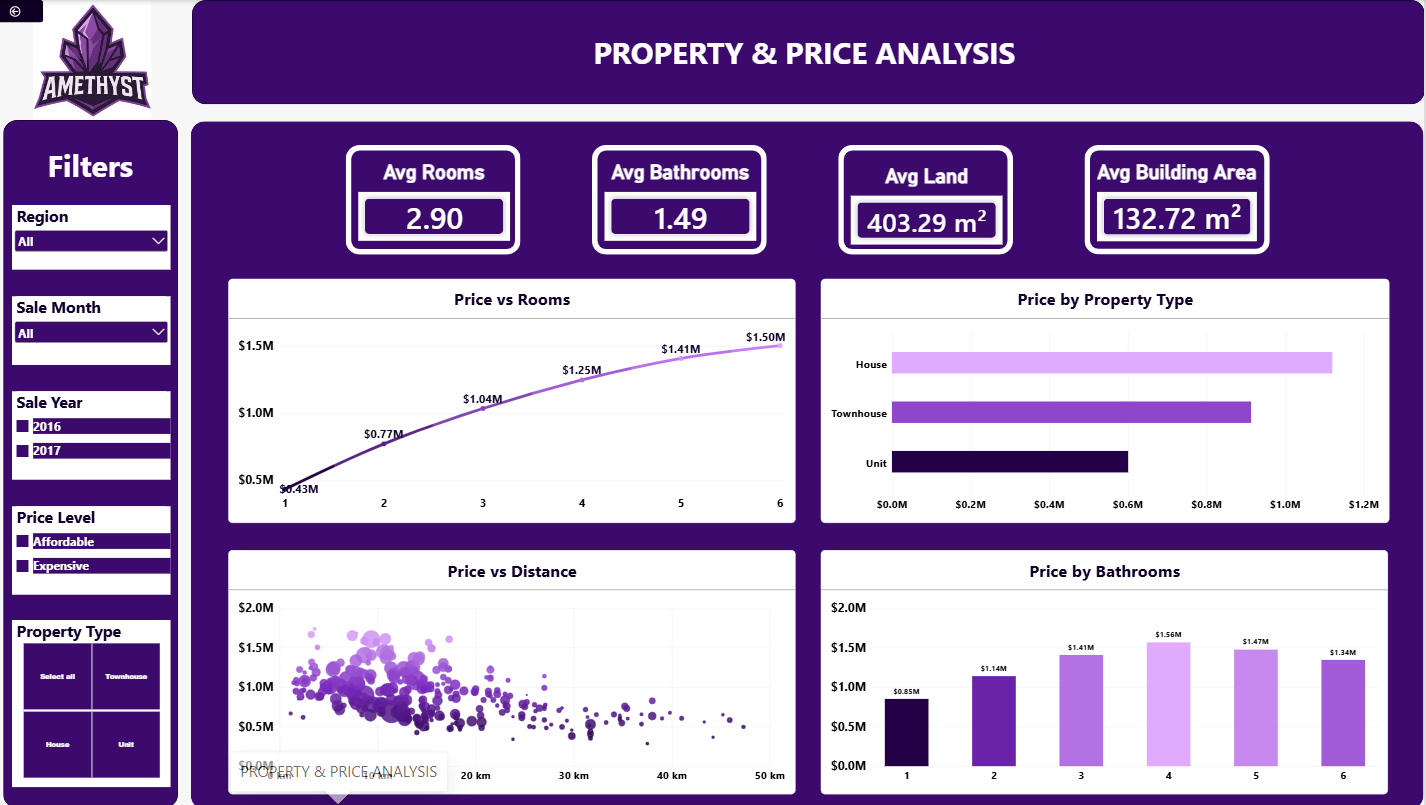

Layout of this report page (visuals, bound fields, positions):
{"tool":"powerbi","page":{"name":"PROPERTY & PRICE ANALYSIS ","canvas":[2560,1440],"ordinal":1},"visuals":[{"type":"shape","box":[364.3,0,2195.7,185.8],"z":0},{"type":"shape","box":[640,257.8,311.3,195.4],"z":0,"group":"g1"},{"type":"textbox","box":[912.1,55.5,1100.3,74.8],"z":1000},{"type":"shape","box":[1078.5,257.8,311.3,195.4],"z":1000,"group":"g1"},{"type":"shape","box":[363.8,215,2195.7,1225.7],"z":2000},{"type":"cardVisual","title":"Avg Rooms","fields":{"Data":["melb_data_cleaned.Average Rooms"]},"box":[661.7,284.4,270.2,144.8],"z":2000,"group":"g1"},{"type":"shape","box":[29,214.7,311.3,1225.7],"z":3000},{"type":"shape","box":[1517.1,257.8,311.3,195.4],"z":3000,"group":"g1"},{"type":"image","box":[82.5,0,210,215],"z":4000},{"type":"shape","box":[1955.5,257.5,330,195],"z":4000,"group":"g1"},{"type":"cardVisual","title":"Avg Bathrooms","fields":{"Data":["melb_data_cleaned.Average Bathrooms"]},"box":[1100.3,284.4,270.2,144.8],"z":5000,"group":"g1"},{"type":"lineChart","title":"Price vs Rooms ","fields":{"Y":["melb_data_cleaned.Average Price"],"Category":["melb_data_cleaned.Rooms"]},"box":[430,497.5,1010,435],"z":5000},{"type":"cardVisual","title":"Avg Land","fields":{"Data":["melb_data_cleaned.Average Land Size"]},"box":[1538.6,290.6,270.7,144],"z":6000,"group":"g1"},{"type":"barChart","title":"Price by Property Type","fields":{"Category":["melb_data_cleaned.Type"],"Y":["melb_data_cleaned.Average Price"]},"box":[1485,497.5,1012.5,435],"z":6000},{"type":"cardVisual","title":"Avg Building Area","fields":{"Data":["melb_data_cleaned.Average Building Area"]},"box":[1978,285,285,145],"z":7000,"group":"g1"},{"type":"slicer","fields":{"Values":["melb_data_cleaned.Regionname"]},"box":[45,365,282.5,115],"z":7000},{"type":"textbox","box":[80,257.5,207.5,75],"z":8000},{"type":"slicer","fields":{"Values":["melb_data_cleaned.Type"]},"box":[45,1105,282.5,297.5],"z":9000},{"type":"slicer","fields":{"Values":["melb_data_cleaned.Sale_Year"]},"box":[45,696.2,282.5,157.5],"z":10000},{"type":"slicer","fields":{"Values":["melb_data_cleaned.Price_Level"]},"box":[45,900.6,282.5,157.5],"z":11000},{"type":"slicer","fields":{"Values":["melb_data_cleaned.Sale_Month"]},"box":[45,526.9,282.5,122.5],"z":12000},{"type":"scatterChart","title":"Price vs Distance","fields":{"Size":["Sum(melb_data_cleaned.Landsize)"],"X":["melb_data_cleaned.Average Distance"],"Y":["melb_data_cleaned.Average Price"],"Series":["melb_data_cleaned.Suburb"]},"box":[430,980,1010,435],"z":13000},{"type":"columnChart","title":"Price by Bathrooms","fields":{"Category":["melb_data_cleaned.Bathroom"],"Y":["melb_data_cleaned.Average Price"]},"box":[1485,980,1010,435],"z":14000},{"type":"group","id":"g1","title":"Group 1","box":[640,257.5,1645.5,195.8],"z":15000},{"type":"actionButton","box":[0,0,100,40],"z":16000}]}

Visuals, with their boxes in screenshot pixels (x1, y1, x2, y2), scaled from the page's 2560x1440 canvas onto the 1426x805 screenshot:
shape: locate(203, 0, 1425, 104)
shape: locate(356, 144, 530, 253)
textbox: locate(508, 31, 1121, 73)
shape: locate(601, 144, 774, 253)
shape: locate(203, 120, 1425, 804)
"Avg Rooms" cardVisual: locate(369, 159, 519, 240)
shape: locate(16, 120, 190, 804)
shape: locate(845, 144, 1018, 253)
image: locate(46, 0, 163, 120)
shape: locate(1089, 144, 1273, 253)
"Avg Bathrooms" cardVisual: locate(613, 159, 763, 240)
"Price vs Rooms " lineChart: locate(240, 278, 802, 521)
"Avg Land" cardVisual: locate(857, 162, 1008, 243)
"Price by Property Type" barChart: locate(827, 278, 1391, 521)
"Avg Building Area" cardVisual: locate(1102, 159, 1261, 240)
slicer - melb_data_cleaned.Regionname: locate(25, 204, 182, 268)
textbox: locate(45, 144, 160, 186)
slicer - melb_data_cleaned.Type: locate(25, 618, 182, 784)
slicer - melb_data_cleaned.Sale_Year: locate(25, 389, 182, 477)
slicer - melb_data_cleaned.Price_Level: locate(25, 503, 182, 592)
slicer - melb_data_cleaned.Sale_Month: locate(25, 295, 182, 363)
"Price vs Distance" scatterChart: locate(240, 548, 802, 791)
"Price by Bathrooms" columnChart: locate(827, 548, 1390, 791)
"Group 1" group: locate(356, 144, 1273, 253)
actionButton: locate(0, 0, 56, 22)
